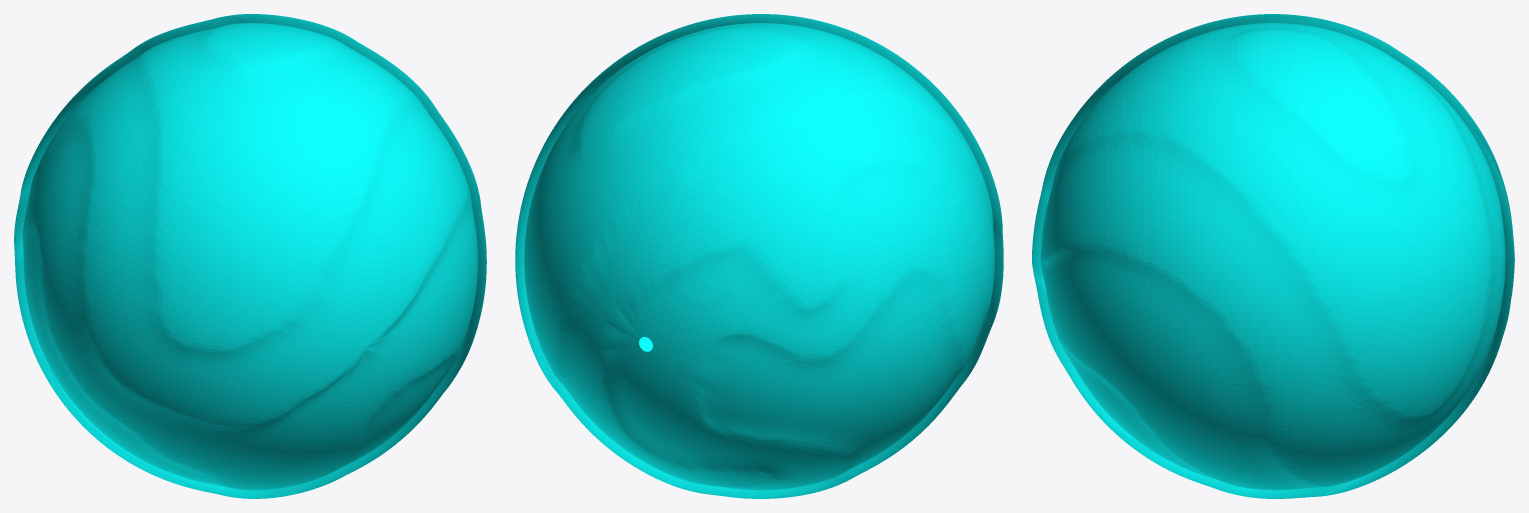
3 views of the same model, side by side, from view 1: azimuth 30°, elevation 25°; view 2: azimuth 150°, elevation 25°; view 3: azimuth 270°, elevation 25° (orthographic).
Visible parts, largest first — view 1: Renderer Node; view 2: Renderer Node; view 3: Renderer Node.
Part boxes in pixels (left/top/right/bottom): Renderer Node: left=14, top=14, right=486, bottom=498; Renderer Node: left=515, top=14, right=1003, bottom=498; Renderer Node: left=1032, top=14, right=1514, bottom=498.
Bounding box in the file's own units: 2.11e+16 × 2.14e+16 × 2.11e+16.
